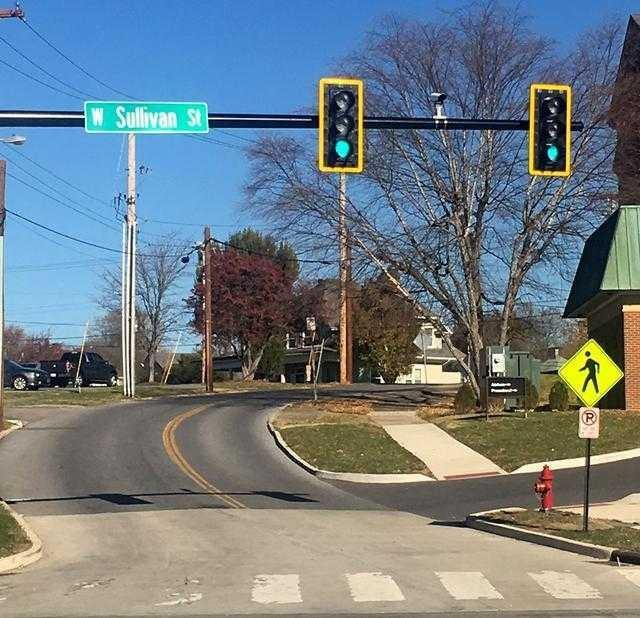2: (323, 80, 362, 168), (538, 88, 567, 169)
3: (328, 80, 358, 115), (538, 93, 566, 118), (328, 114, 357, 138), (540, 120, 564, 142)
red traffic light: (328, 136, 356, 166), (540, 141, 568, 170)
